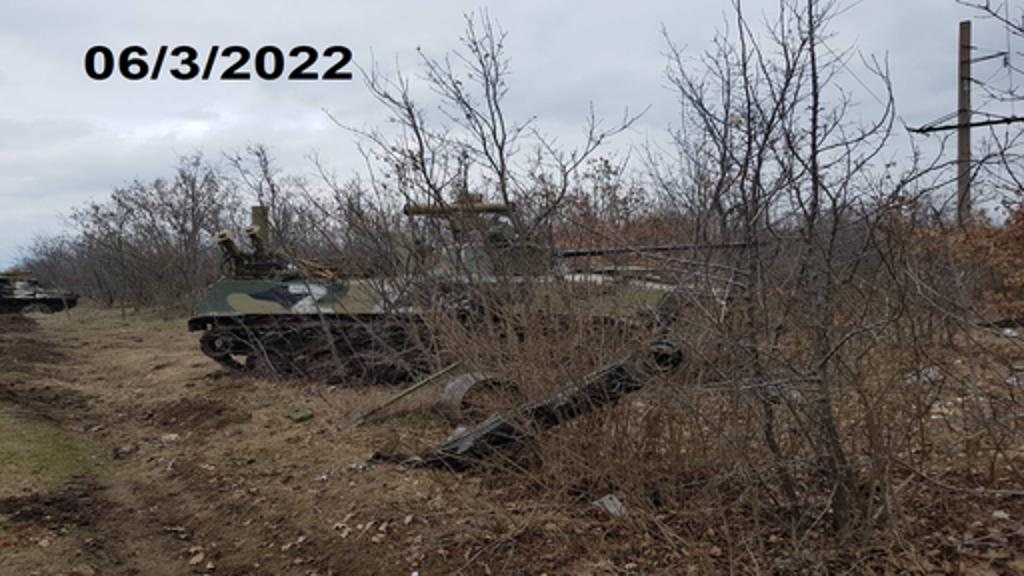APC-IFV: (186, 190, 772, 400)
ART: (0, 270, 80, 314)
